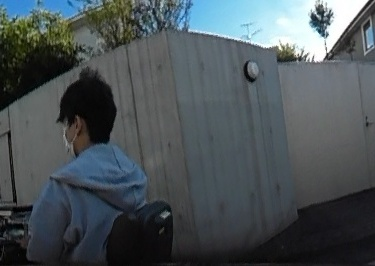person: (29, 66, 147, 260)
